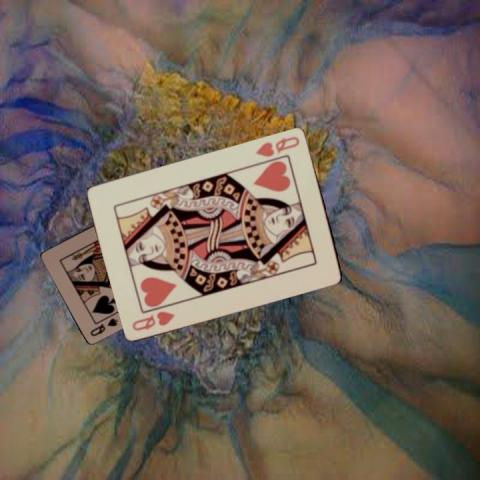Qh: (253, 133, 301, 158), (128, 307, 176, 332)
Qs: (87, 315, 119, 337)
